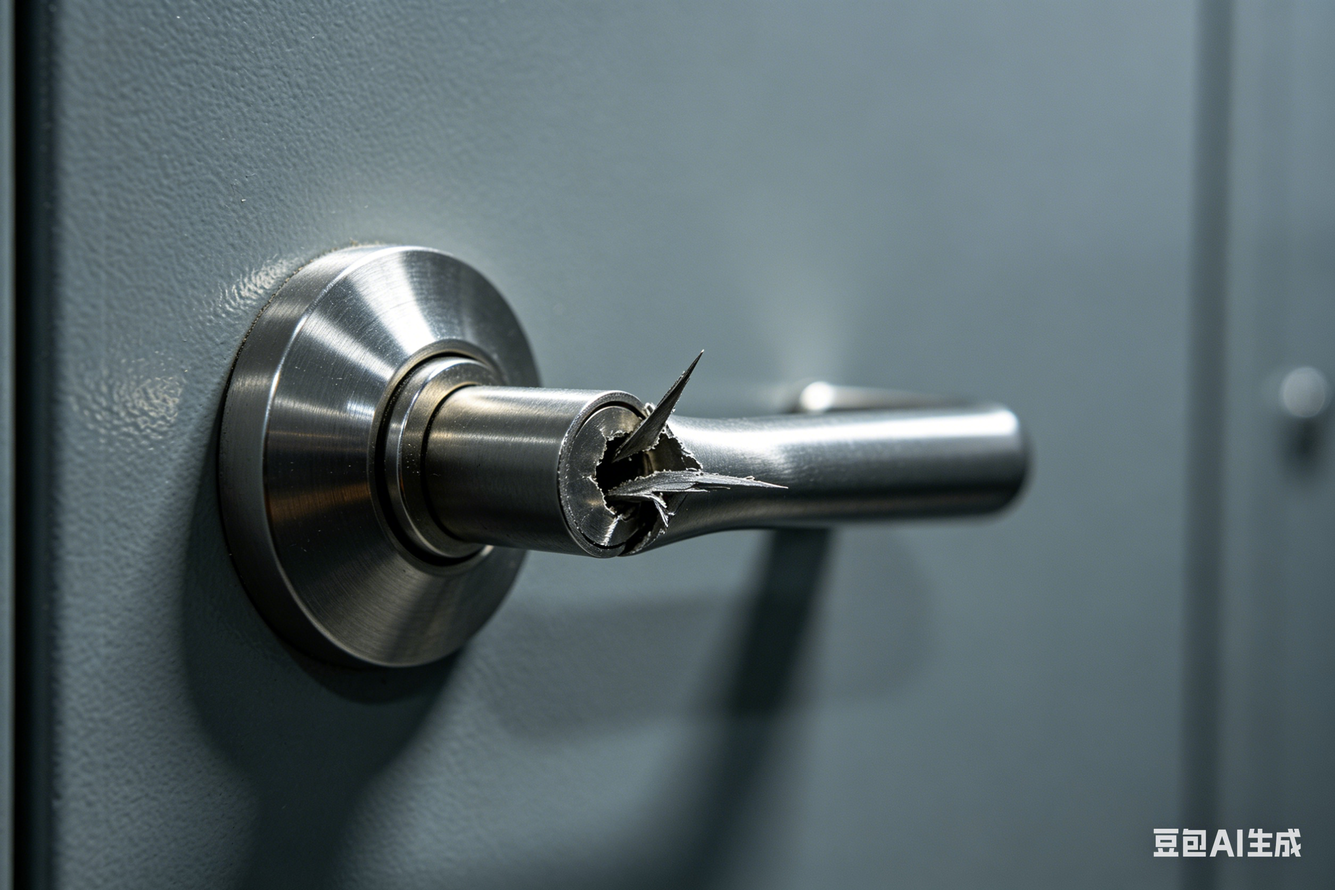BadLock: (579, 399, 698, 550)
